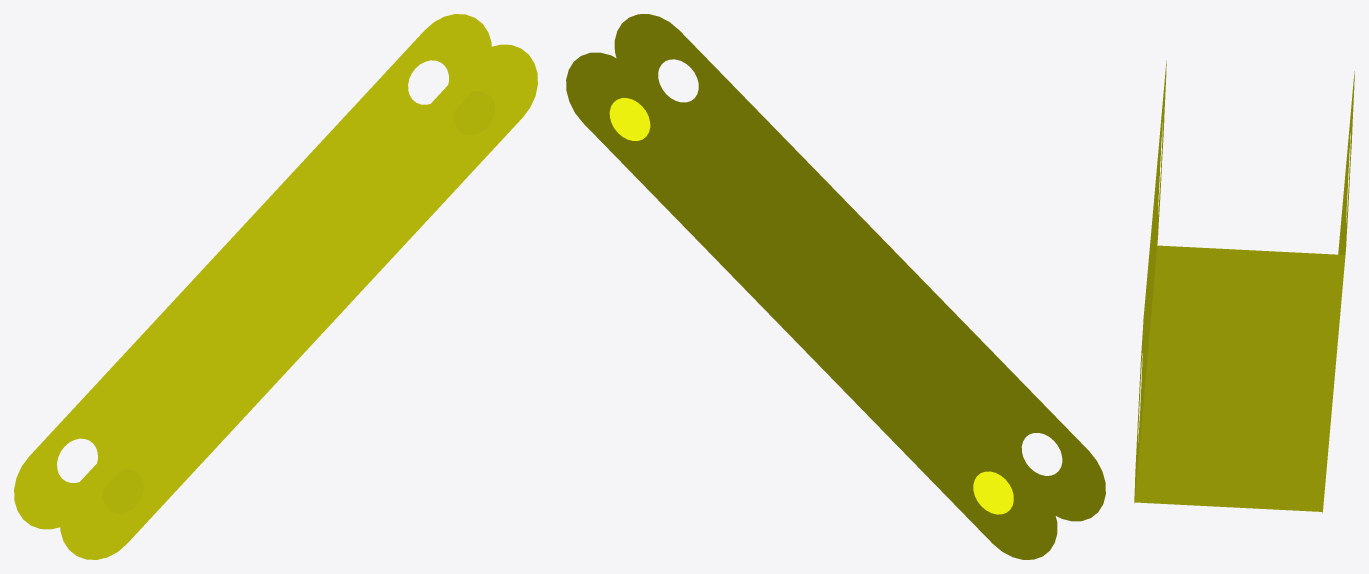
Rendered from body_15.obj.
3 views of the same model, side by side, from view 1: azimuth 30°, elevation 25°; view 2: azimuth 150°, elevation 25°; view 3: azimuth 270°, elevation 25° (orthographic). The views are drawn at different scales.
Parts seen in each view (by area): view 1: Body_22; view 2: Body_22; view 3: Body_22.
Part boxes in pixels (x1,y1,x2,y2): Body_22: (14,14,537,559); Body_22: (566,14,1105,559); Body_22: (1134,60,1354,513).
Bounding box in the file's own units: 0.0475 × 0.0387 × 0.00936.
